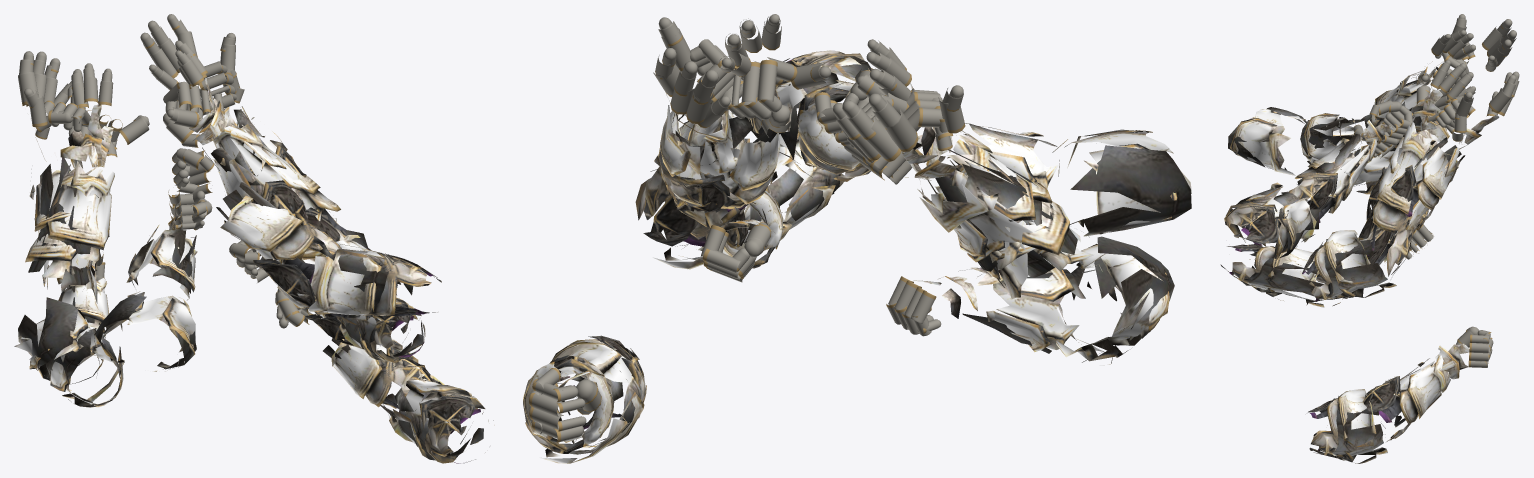
The model's file is gauntlets_t_white.glb.
3 views of the same model, side by side, from view 1: azimuth 30°, elevation 25°; view 2: azimuth 150°, elevation 25°; view 3: azimuth 270°, elevation 25° (orthographic). The views are drawn at different scales.
Visible parts, largest first — view 1: spell_attack, arms_2h, spell_raise, arms_staff, arms_1h; view 2: spell_attack, spell_raise, arms_2h, arms_1h, arms_staff; view 3: arms_2h, spell_attack, arms_staff, spell_raise, arms_1h.
Boxes of the visible parts, x1=… form: spell_attack: x1=14, y1=40, x2=400, y2=390; arms_2h: x1=94, y1=148, x2=441, y2=371; spell_raise: x1=18, y1=14, x2=346, y2=303; arms_staff: x1=275, y1=289, x2=494, y2=463; arms_1h: x1=46, y1=241, x2=425, y2=407; spell_attack: x1=635, y1=14, x2=1174, y2=362; spell_raise: x1=653, y1=17, x2=1093, y2=277; arms_2h: x1=747, y1=50, x2=1191, y2=236; arms_1h: x1=701, y1=125, x2=1159, y2=365; arms_staff: x1=523, y1=335, x2=646, y2=463; arms_2h: x1=1224, y1=100, x2=1413, y2=259; spell_attack: x1=1302, y1=30, x2=1475, y2=301; arms_staff: x1=1308, y1=326, x2=1493, y2=463; spell_raise: x1=1360, y1=14, x2=1519, y2=263; arms_1h: x1=1220, y1=145, x2=1458, y2=307.
Bounding box in the file's own units: 1.36 × 1.19 × 1.
1 material, 1 textured.
